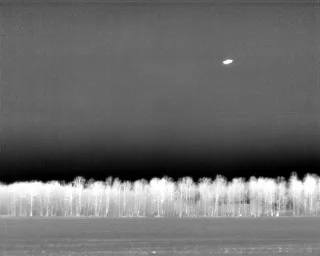DRONE: (219, 55, 237, 70)
